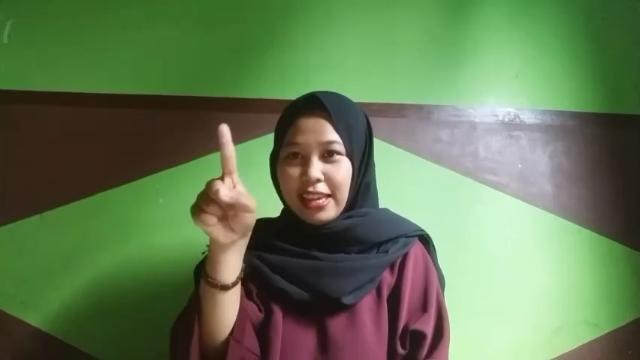Z: (186, 120, 256, 242)
